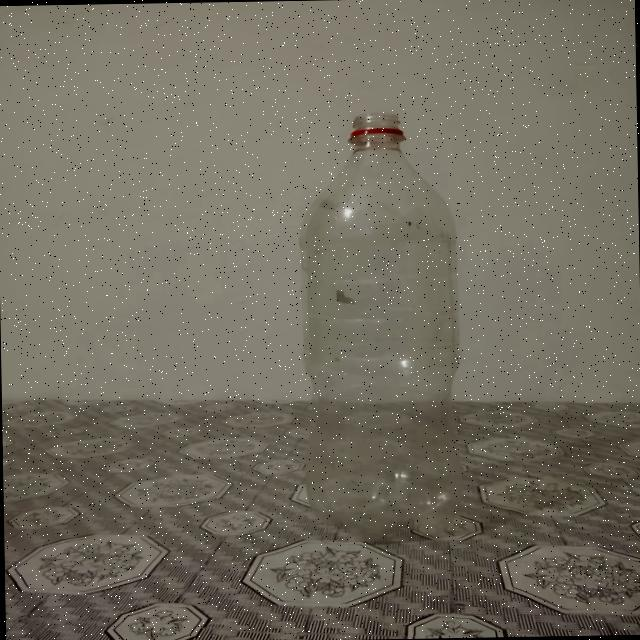bottle: (288, 106, 472, 538)
